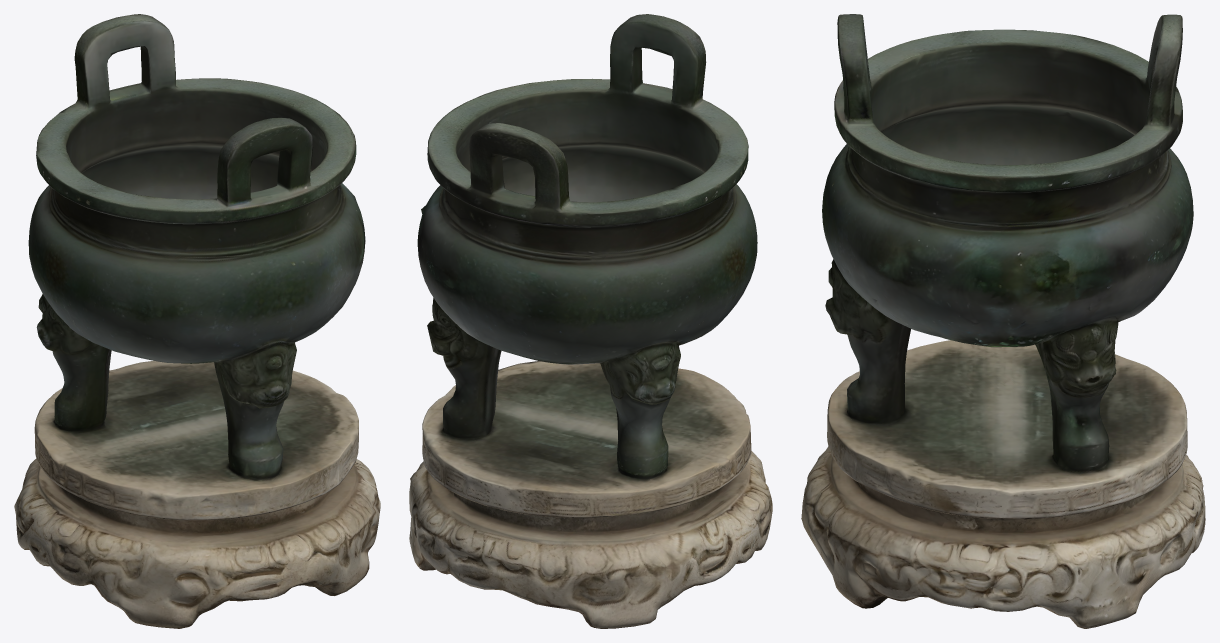
The model's file is ding.glb.
The picture shows the model from 3 angles, left to right: view 1: azimuth 30°, elevation 25°; view 2: azimuth 150°, elevation 25°; view 3: azimuth 270°, elevation 25°; orthographic projection. The views are drawn at different scales.
Visible parts, largest first — view 1: tripo_node_cf3d07ce-74ca-4fc1-a7cc-545ea8d87dbe; view 2: tripo_node_cf3d07ce-74ca-4fc1-a7cc-545ea8d87dbe; view 3: tripo_node_cf3d07ce-74ca-4fc1-a7cc-545ea8d87dbe.
Part boxes in pixels (left/top/right/bottom): tripo_node_cf3d07ce-74ca-4fc1-a7cc-545ea8d87dbe: left=14, top=14, right=380, bottom=628; tripo_node_cf3d07ce-74ca-4fc1-a7cc-545ea8d87dbe: left=409, top=14, right=772, bottom=628; tripo_node_cf3d07ce-74ca-4fc1-a7cc-545ea8d87dbe: left=801, top=14, right=1205, bottom=628.
Size of the model in its own units: 0.6851 by 1 by 0.6833.
Materials: 1 (1 with a texture image).
